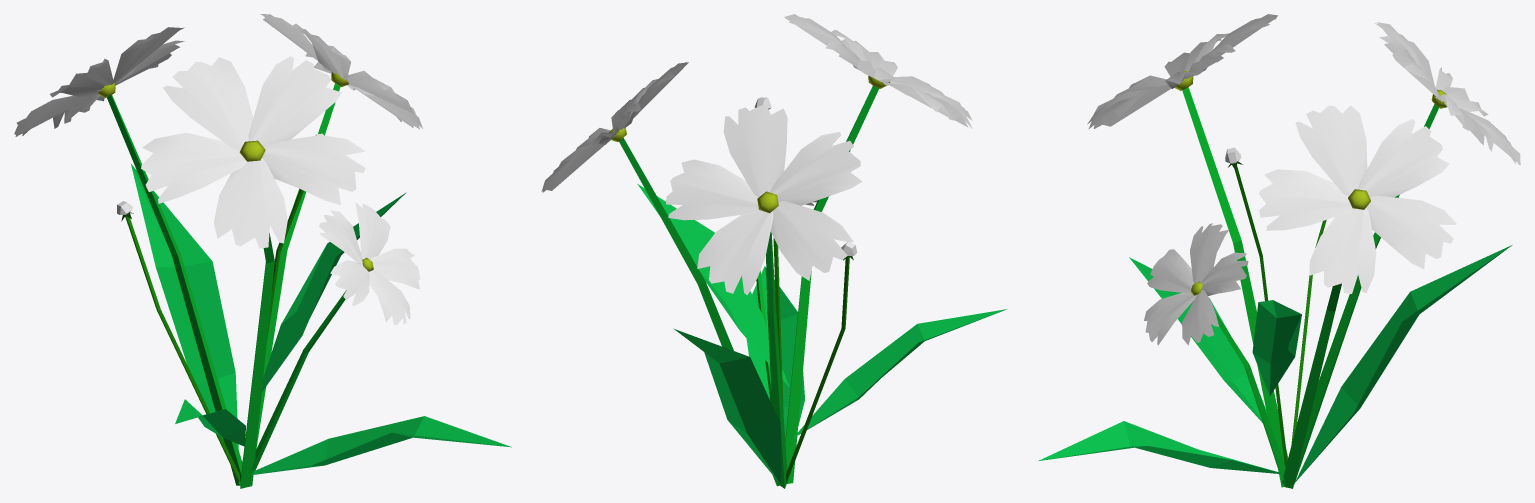
File: Flor.glb
The picture shows the model from 3 angles, left to right: view 1: azimuth 30°, elevation 25°; view 2: azimuth 150°, elevation 25°; view 3: azimuth 270°, elevation 25°; orthographic projection.
Parts seen in each view (by area): view 1: Circle.008; view 2: Circle.008; view 3: Circle.008.
Part boxes in pixels (x1,y1,x2,y2): Circle.008: [14, 14, 511, 488]; Circle.008: [541, 14, 1007, 488]; Circle.008: [1038, 14, 1520, 488].
Bounding box in the file's own units: 1.44 × 1.77 × 1.74.
